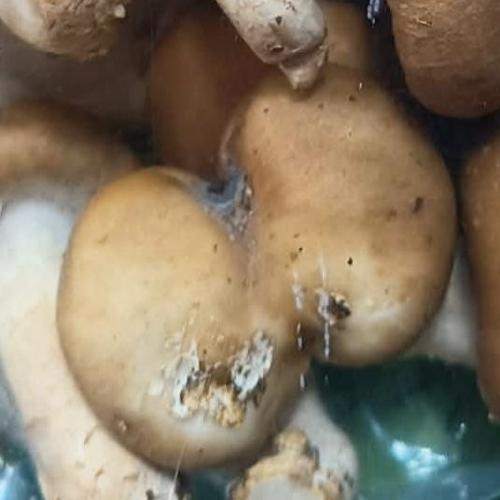Shiitake Mushroom: (0, 22, 500, 500)
